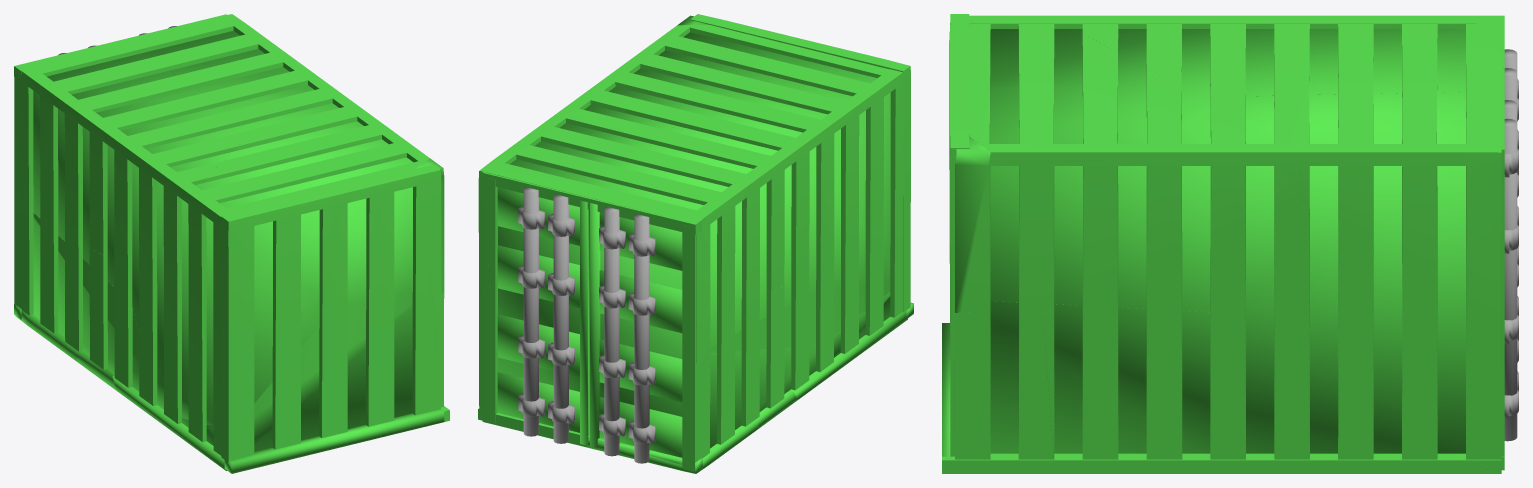
File: container 1.fbx
3 renders of one model, left to right at view 1: azimuth 30°, elevation 25°; view 2: azimuth 150°, elevation 25°; view 3: azimuth 270°, elevation 25°, orthographic. The views are drawn at different scales.
Visible parts, largest first — view 1: container1.005_cell.002, container1.009_cell.002, container1_cell.002, container1.005_cell.003, container1.003_cell.003, container1.003_cell.001, container1.009_cell.001, container1.003_cell.004, container1_cell.006, container1.003_cell.002, container1_cell.007, container1_cell.004 (+11 smaller); view 2: container1.005_cell.002, container1.005_cell.003, container1.003_cell.003, container1.003_cell.001, container1_cell.004, container1.003_cell.004, container1_cell.002, container1.003_cell.002, container1.011, container1_cell.001, container1_cell.003, container1.003_cell (+46 smaller); view 3: container1.005_cell, container1.005_cell.003, container1.005_cell.002, container1_cell.007, container1_cell.001, container1_cell.005, container1_cell.006, container1.005_cell.004, container1_cell.004, container1_cell.002, container1.006_cell.001, container1.006_cell (+9 smaller).
Part boxes in pixels (<box>): container1.005_cell.002: <box>20,14,310,184</box>; container1.009_cell.002: <box>221,322,440,462</box>; container1_cell.002: <box>132,128,319,420</box>; container1.005_cell.003: <box>202,71,429,213</box>; container1.003_cell.003: <box>136,152,232,400</box>; container1.003_cell.001: <box>23,100,148,267</box>; container1.009_cell.001: <box>221,189,337,333</box>; container1.003_cell.004: <box>15,211,124,369</box>; container1_cell.006: <box>157,293,412,451</box>; container1.003_cell.002: <box>114,266,221,455</box>; container1_cell.007: <box>230,103,413,305</box>; container1_cell.004: <box>33,53,229,286</box>; container1.005_cell.002: <box>478,98,845,300</box>; container1.005_cell.003: <box>558,25,888,113</box>; container1.003_cell.003: <box>805,69,903,256</box>; container1.003_cell.001: <box>705,131,821,357</box>; container1_cell.004: <box>600,125,791,354</box>; container1.003_cell.004: <box>696,264,806,461</box>; container1_cell.002: <box>711,56,890,335</box>; container1.003_cell.002: <box>791,242,902,390</box>; container1.011: <box>580,200,600,448</box>; container1_cell.001: <box>498,105,675,318</box>; container1_cell.003: <box>600,304,815,448</box>; container1.003_cell: <box>685,183,745,367</box>; container1.005_cell: <box>1043,201,1501,459</box>; container1.005_cell.003: <box>961,24,1302,313</box>; container1.005_cell.002: <box>1082,18,1502,314</box>; container1_cell.007: <box>990,85,1210,311</box>; container1_cell.001: <box>1245,91,1466,306</box>; container1_cell.005: <box>1246,305,1465,453</box>; container1_cell.006: <box>990,301,1210,453</box>; container1.005_cell.004: <box>954,311,1053,459</box>; container1_cell.004: <box>1245,29,1465,96</box>; container1_cell.002: <box>990,29,1210,86</box>; container1.006_cell.001: <box>942,453,1222,473</box>; container1.006_cell: <box>1222,453,1501,473</box>.
Size of the model in its own units: 3.6 by 2.03 by 2.24.
